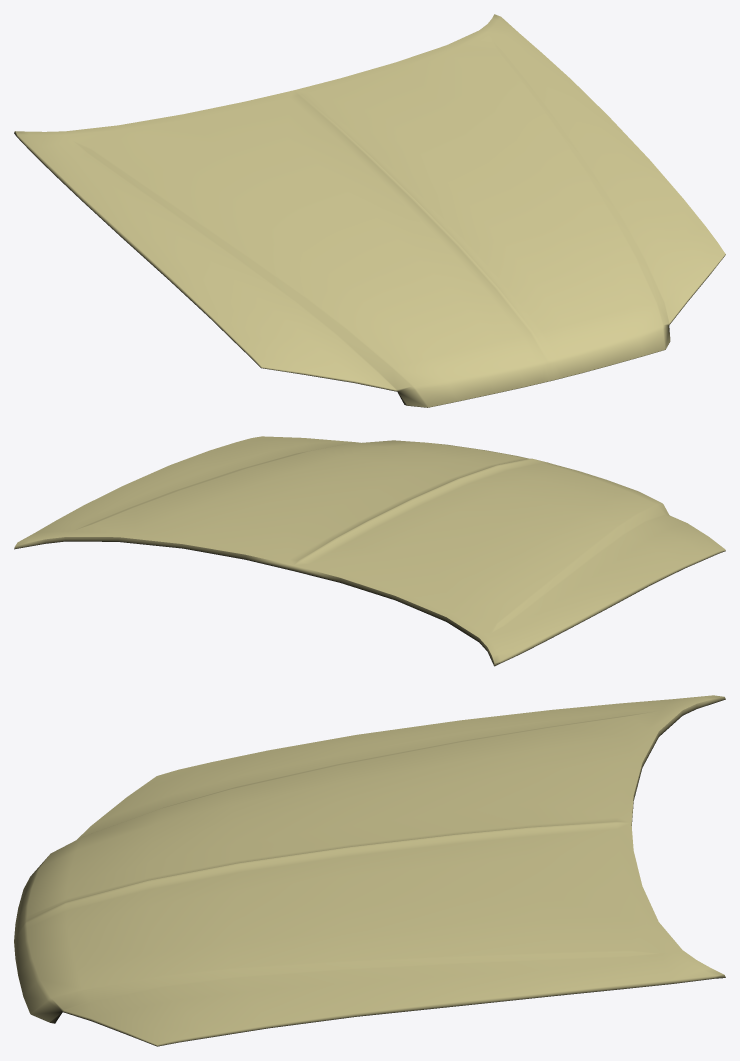
Rendered from R34_Bonnet02_Duco.fbx.
3 views of the same model, one above another, from view 1: azimuth 30°, elevation 25°; view 2: azimuth 150°, elevation 25°; view 3: azimuth 270°, elevation 25° (orthographic). The views are drawn at different scales.
Parts seen in each view (by area): view 1: R34_Bonnet02_Duco; view 2: R34_Bonnet02_Duco; view 3: R34_Bonnet02_Duco.
Boxes of the visible parts, box(x1,y1,x2,y2) form: R34_Bonnet02_Duco: box(14, 14, 725, 407); R34_Bonnet02_Duco: box(14, 436, 725, 666); R34_Bonnet02_Duco: box(14, 695, 725, 1046).
Size of the model in its own units: 145 by 29.61 by 153.
